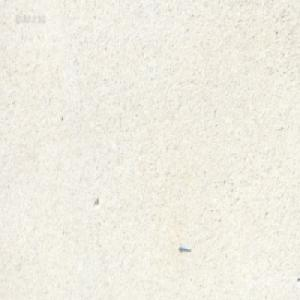Nail: (178, 243, 190, 251)
